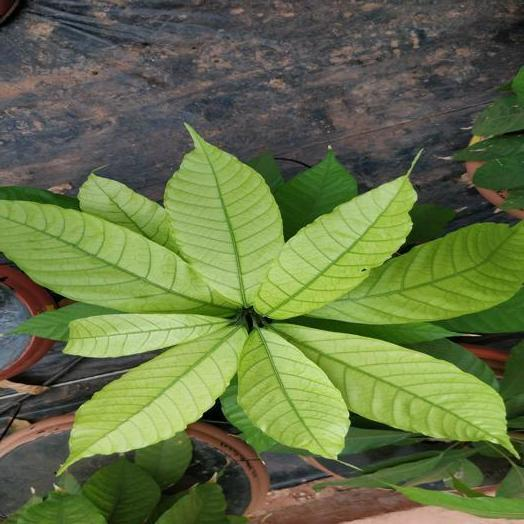Healthy Leaf: (276, 148, 357, 238), (82, 458, 160, 523), (135, 432, 191, 487), (155, 483, 227, 523), (18, 494, 106, 523)
Iron: (270, 324, 515, 454), (0, 201, 232, 313), (62, 327, 246, 468), (255, 176, 415, 319), (164, 125, 283, 305), (311, 224, 523, 323), (238, 327, 348, 457), (78, 174, 177, 252), (64, 314, 231, 357), (9, 303, 117, 340)
